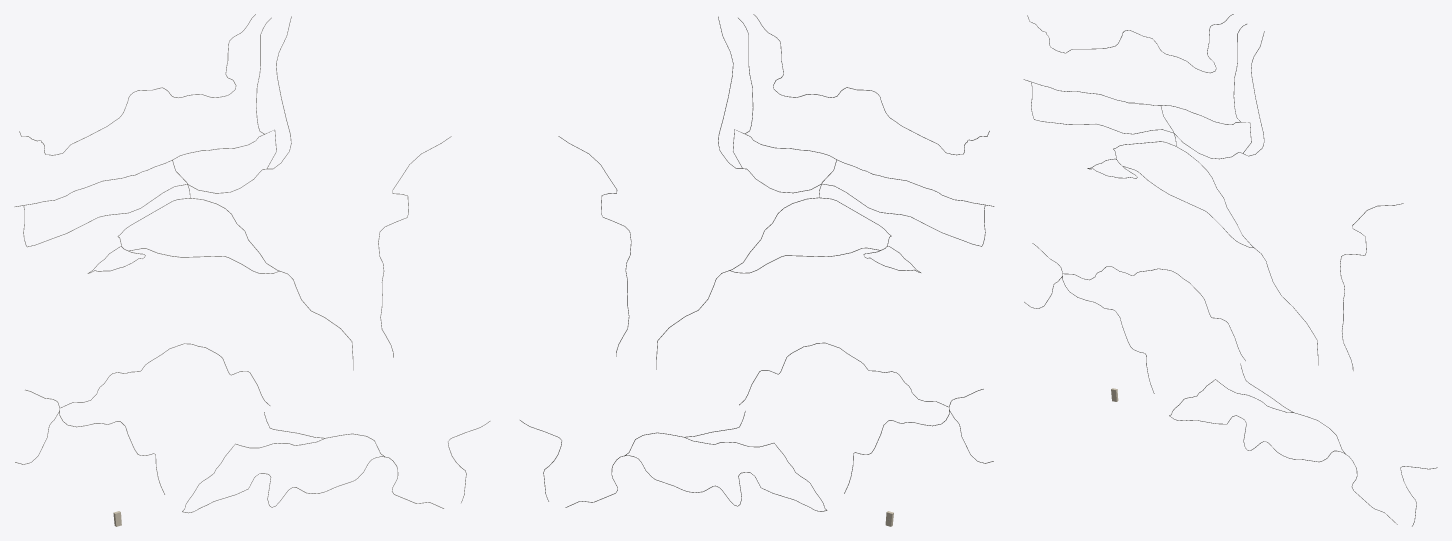
File: historic-palestine-10_36_3515_3300.glb
3 views of the same model, side by side, from view 1: azimuth 30°, elevation 25°; view 2: azimuth 150°, elevation 25°; view 3: azimuth 330°, elevation 25° (orthographic). The views are drawn at different scales.
Visible parts, largest first — view 1: Road .008; view 2: no part large enough to name; view 3: no part large enough to name.
Boxes of the visible parts, left/top/right/bottom form: Road .008: left=23, top=16, right=291, bottom=247.
Size of the model in its own units: 1196 by 1298 by 8.7.
